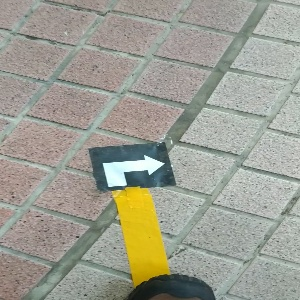right: (90, 143, 174, 188)
